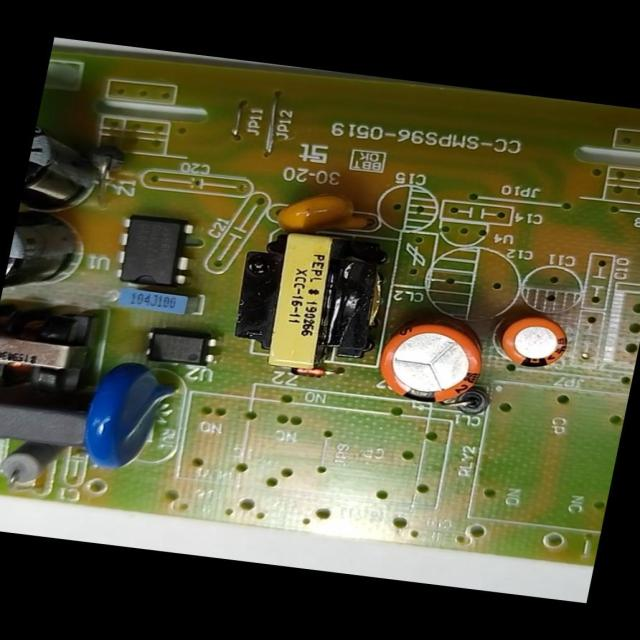Cap1: (368, 314, 494, 412)
Cap2: (494, 312, 572, 374)
Cap3: (0, 206, 86, 308)
Cap4: (20, 112, 115, 213)
MOSFET: (100, 210, 201, 292)
Mov: (70, 353, 186, 477)
Resistor: (0, 434, 72, 492)
Transformer: (224, 221, 392, 381), (0, 300, 113, 407)
